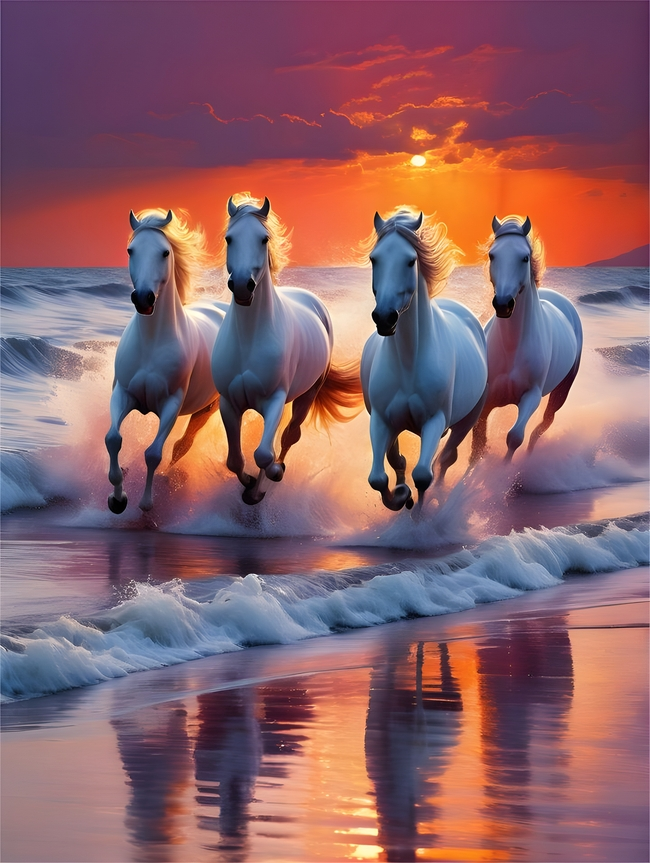horse: (208, 193, 345, 512), (98, 199, 228, 520), (358, 202, 486, 514), (475, 219, 585, 468)
